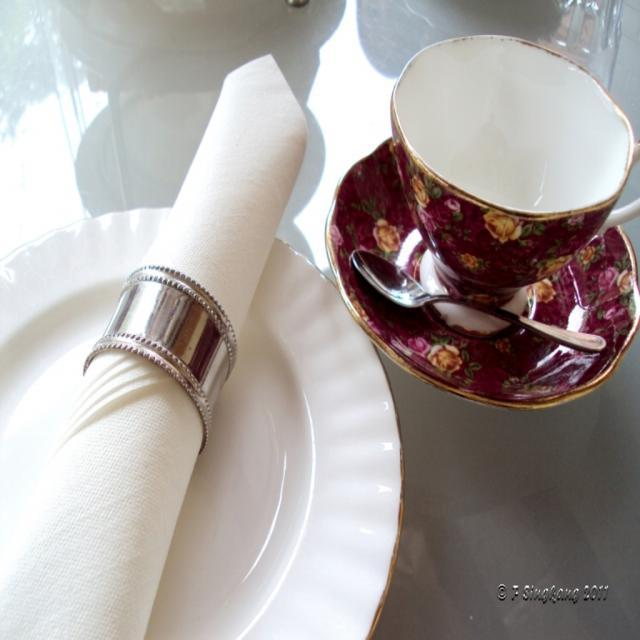ceramic plate: (21, 183, 408, 640)
